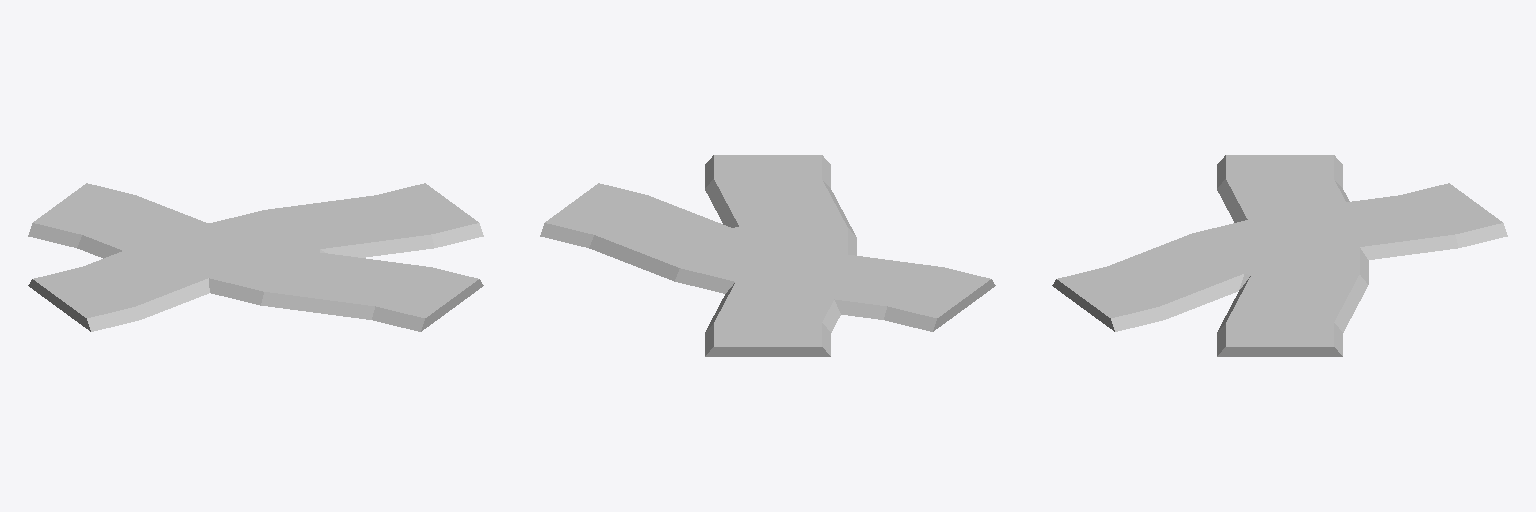
File: path_intersectionE.obj
The picture shows the model from 3 angles: view 1: azimuth 30°, elevation 25°; view 2: azimuth 150°, elevation 25°; view 3: azimuth 270°, elevation 25°; orthographic projection.
Visible parts, largest first — view 1: path_intersectionE; view 2: path_intersectionE; view 3: path_intersectionE.
Boxes of the visible parts, x1,y1,x2,y2 form: path_intersectionE: [28, 183, 483, 331]; path_intersectionE: [540, 155, 995, 356]; path_intersectionE: [1052, 155, 1507, 356].
Size of the model in its own units: 1 by 0.025 by 1.01.